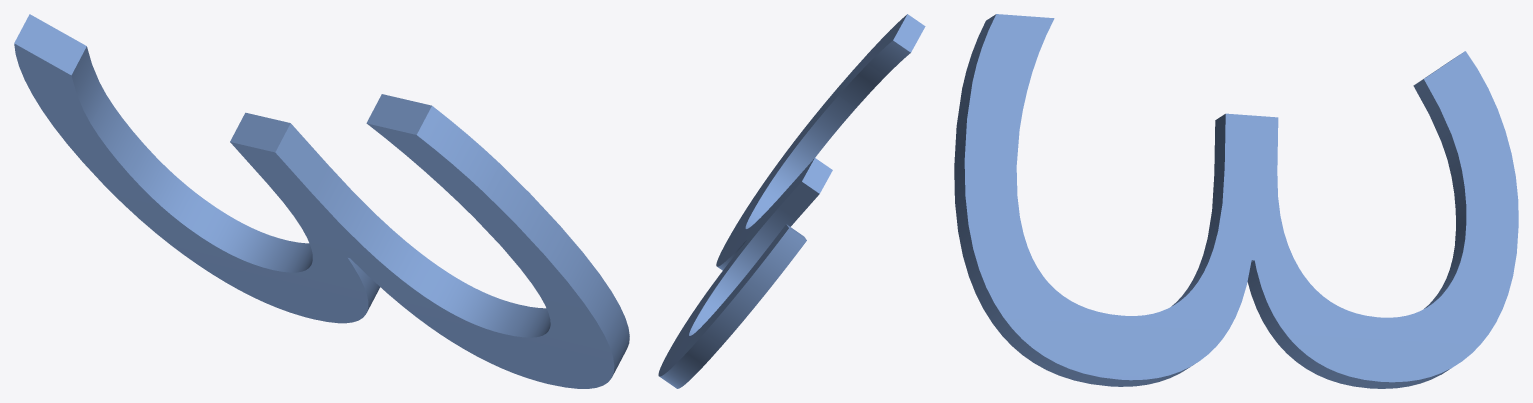
The model's file is New_Number_3.gltf.
3 renders of one model, left to right at view 1: azimuth 30°, elevation 25°; view 2: azimuth 150°, elevation 25°; view 3: azimuth 270°, elevation 25°, orthographic. The views are drawn at different scales.
Visible parts, largest first — view 1: Part 579; view 2: Part 579; view 3: Part 579.
Boxes of the visible parts, x1,y1,x2,y2 form: Part 579: (14,14,629,388); Part 579: (658,14,925,388); Part 579: (954,14,1518,388).
Bounding box in the file's own units: 0.00288 × 0.00331 × 0.00511.
